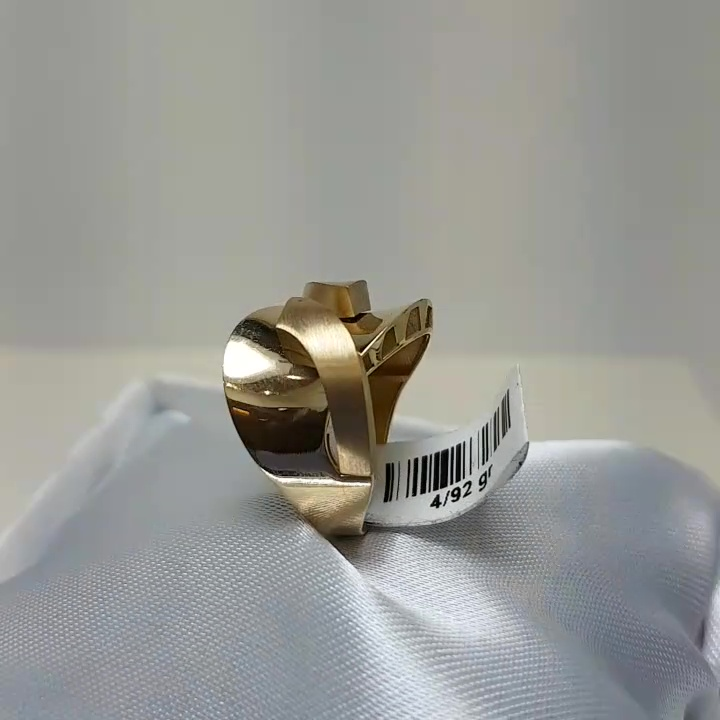Ring 4: (197, 269, 460, 551)
